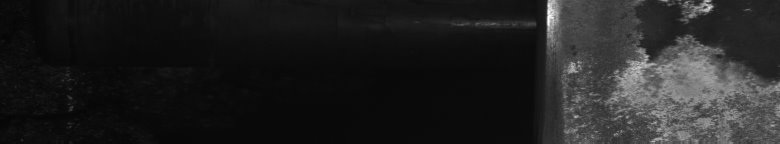kb: (580, 4, 776, 136)
